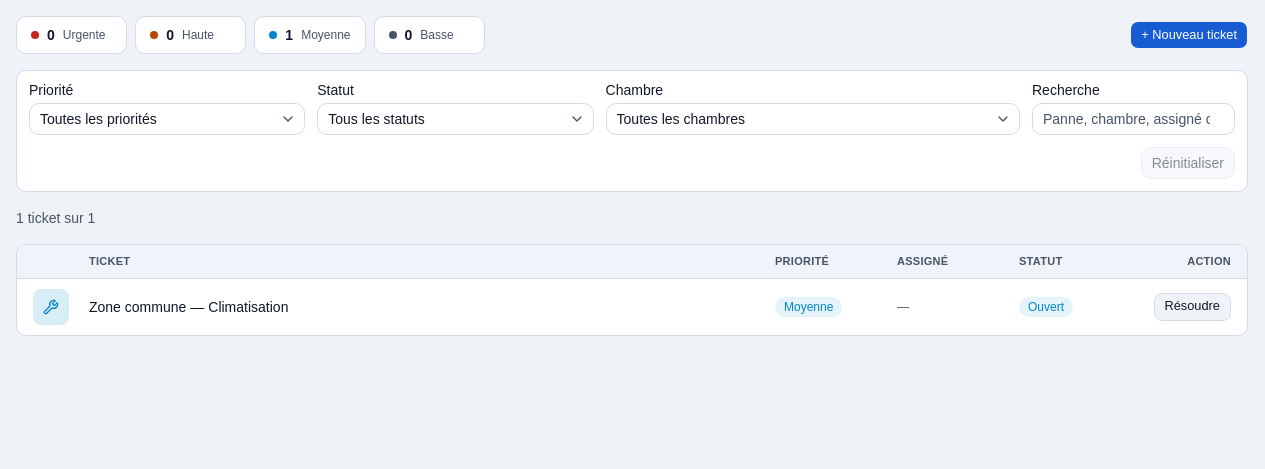
MaintenancePage — filtres et compteurs › affiche un état vide filtré puis réinitialise les critères
The width and height of the screenshot is (1265, 469).
Expected: the text "1 ticket sur 1" is shown, [16,210,95,226]
Type "introuvable" into the search field labelled "Recherche" at (1134, 119), box [1032,103,1235,135]
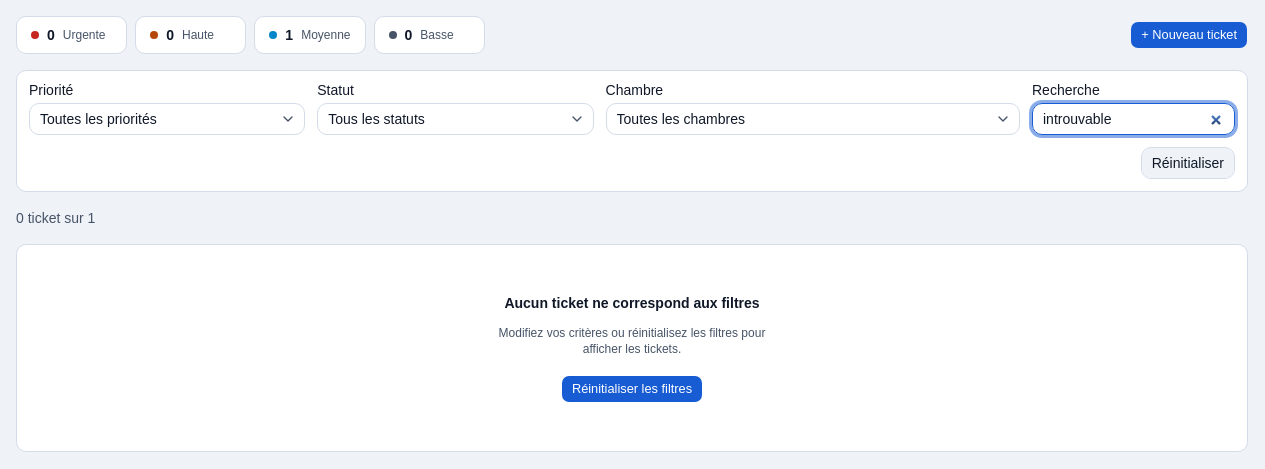
Expected: the text "Aucun ticket ne correspond aux filtres" is shown, [504,293,760,313]
Click the button "Réinitialiser les filtres" at (632, 389), box [561,375,703,403]
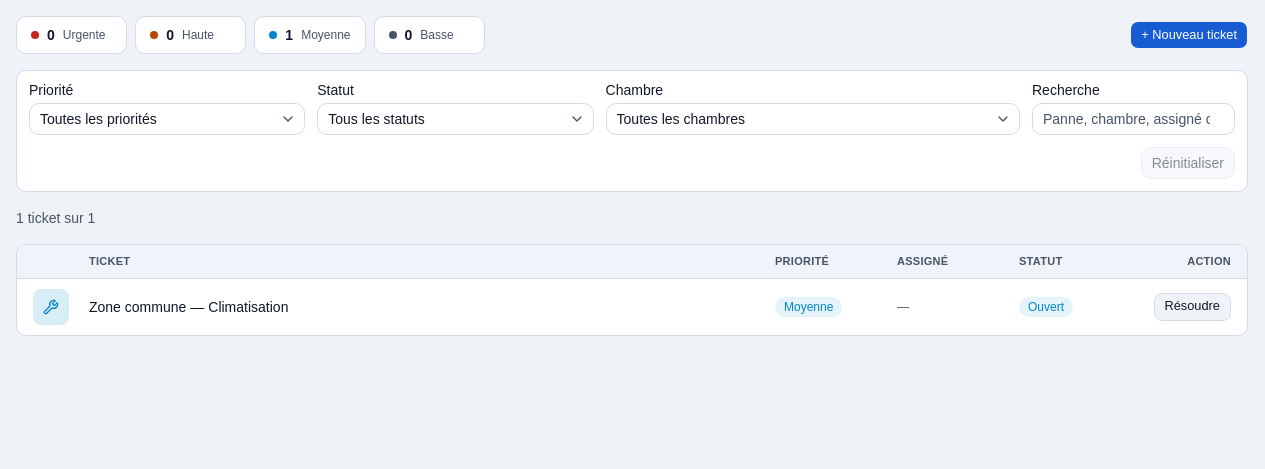
Expected: the button with aria-label "Voir le détail du ticket 1" is shown, [208,296,288,316]
Expected: the search field labelled "Recherche" is empty, [1032,103,1235,135]
